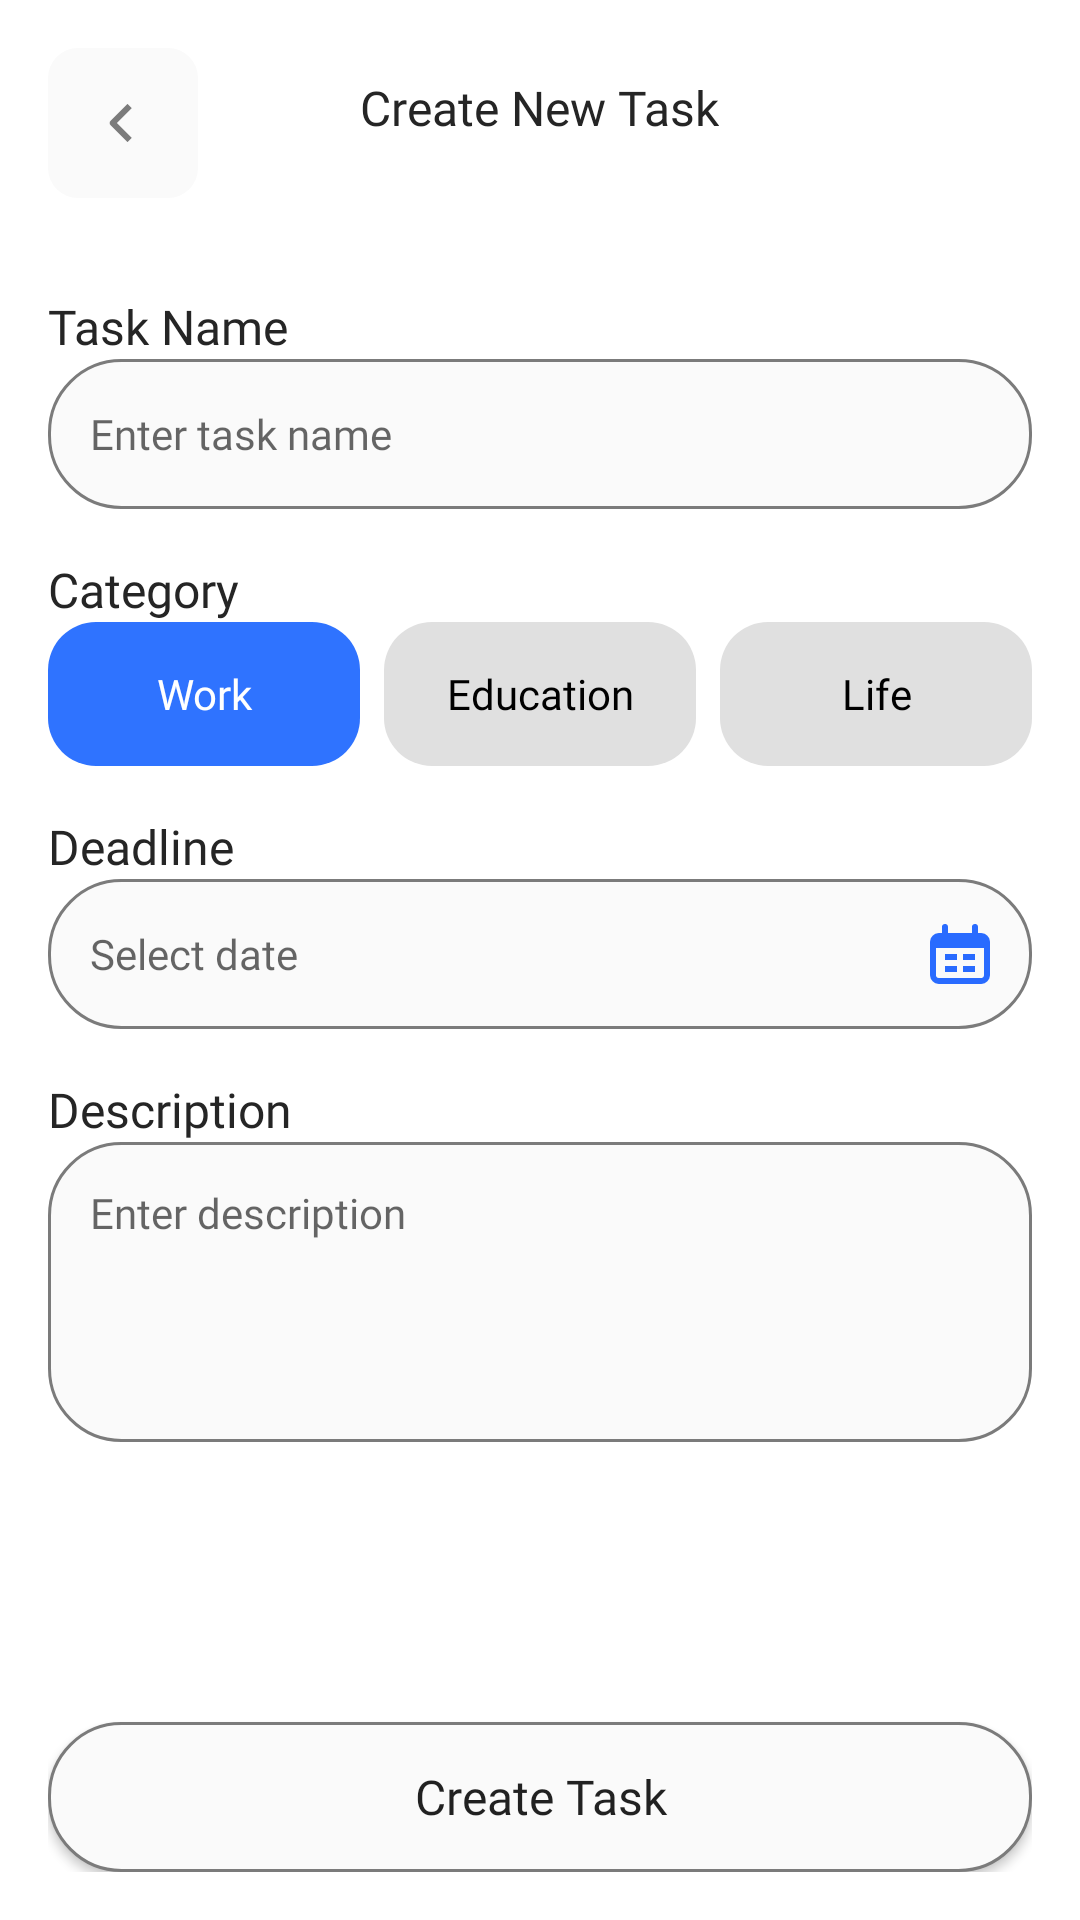

Icons on this 1080 x 1920 Android screen, each with its box as box(x1, y1, x2, y2):
back: box(109, 104, 132, 142)
